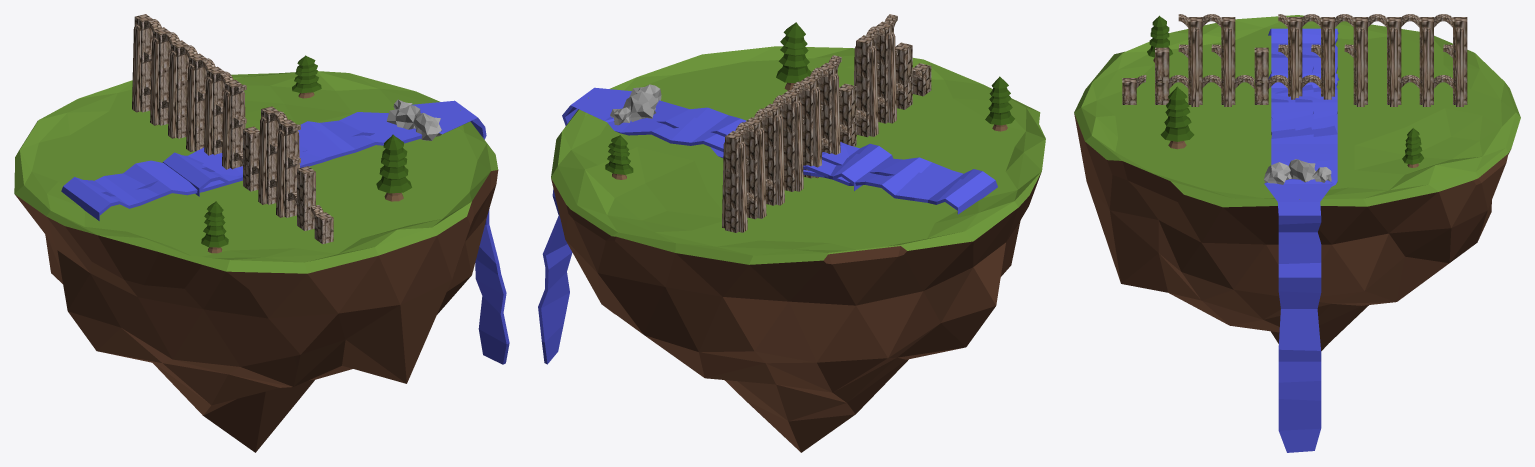
The model's file is Isla.glb.
3 renders of one model, left to right at view 1: azimuth 30°, elevation 25°; view 2: azimuth 150°, elevation 25°; view 3: azimuth 270°, elevation 25°, orthographic. The views are drawn at different scales.
Parts seen in each view (by area): view 1: Isla, Agua, Agua.003, Agua.002, Agua.004, Agua.001, Arbol, Arbol.001, Arbol.002, Isla.315, Isla.166, Isla.004 (+11 smaller); view 2: Isla, Agua, Agua.004, Agua.001, Agua.003, Agua.002, Arbol, Arbol.001, Arbol.002, Isla.185, Isla.315, Isla.145 (+15 smaller); view 3: Isla, Agua, Agua.002, Agua.001, Agua.003, Agua.004, Arbol, Isla.183, Isla.037, Isla.006, Isla.078, Isla.194 (+9 smaller).
Part boxes in pixels (x1=…): Isla: x1=14, y1=71, x2=498, y2=452; Agua: x1=412, y1=100, x2=509, y2=364; Agua.003: x1=74, y1=151, x2=331, y2=220; Agua.002: x1=176, y1=121, x2=422, y2=196; Agua.004: x1=61, y1=146, x2=307, y2=210; Agua.001: x1=162, y1=112, x2=396, y2=178; Arbol: x1=376, y1=134, x2=411, y2=201; Arbol.001: x1=201, y1=201, x2=228, y2=253; Arbol.002: x1=292, y1=55, x2=321, y2=98; Isla.315: x1=168, y1=50, x2=176, y2=138; Isla.166: x1=297, y1=166, x2=315, y2=207; Isla.004: x1=132, y1=24, x2=140, y2=112; Isla: x1=551, y1=46, x2=1045, y2=452; Agua: x1=538, y1=87, x2=631, y2=364; Agua.004: x1=710, y1=147, x2=983, y2=214; Agua.001: x1=607, y1=114, x2=877, y2=190; Agua.003: x1=822, y1=145, x2=997, y2=205; Agua.002: x1=654, y1=100, x2=892, y2=172; Arbol: x1=776, y1=22, x2=811, y2=90; Arbol.001: x1=985, y1=76, x2=1014, y2=131; Arbol.002: x1=605, y1=135, x2=633, y2=179; Isla.185: x1=887, y1=32, x2=896, y2=123; Isla.315: x1=775, y1=114, x2=784, y2=205; Isla.145: x1=794, y1=100, x2=803, y2=191; Isla: x1=1074, y1=15, x2=1520, y2=350; Agua: x1=1264, y1=179, x2=1333, y2=452; Agua.002: x1=1268, y1=73, x2=1313, y2=165; Agua.001: x1=1295, y1=73, x2=1338, y2=186; Agua.003: x1=1268, y1=28, x2=1313, y2=134; Agua.004: x1=1295, y1=28, x2=1338, y2=132; Arbol: x1=1160, y1=86, x2=1194, y2=149; Isla.183: x1=1191, y1=27, x2=1199, y2=106; Isla.037: x1=1422, y1=27, x2=1430, y2=106; Isla.006: x1=1356, y1=27, x2=1364, y2=106; Isla.078: x1=1323, y1=27, x2=1331, y2=99; Isla.194: x1=1224, y1=27, x2=1231, y2=106.
Bounding box in the file's own units: 33.93 × 27.2 × 31.54.
Materials: 92 (84 with a texture image).
